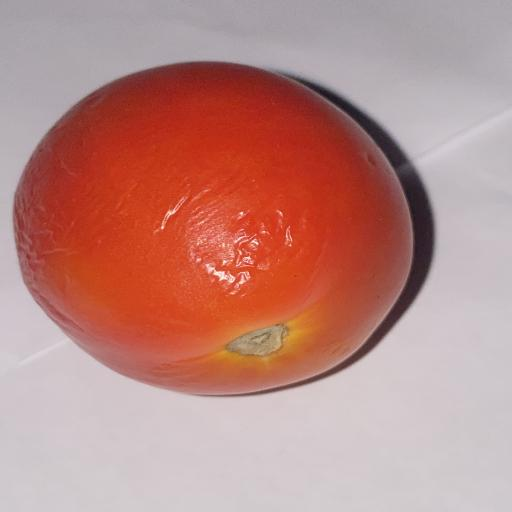overipe: (14, 62, 413, 394)
spoiled: (14, 62, 413, 394)
